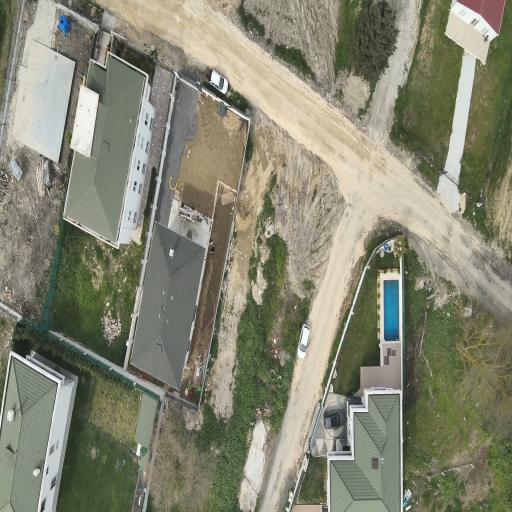car: (210, 70, 228, 94), (298, 324, 310, 358), (324, 412, 340, 429)
